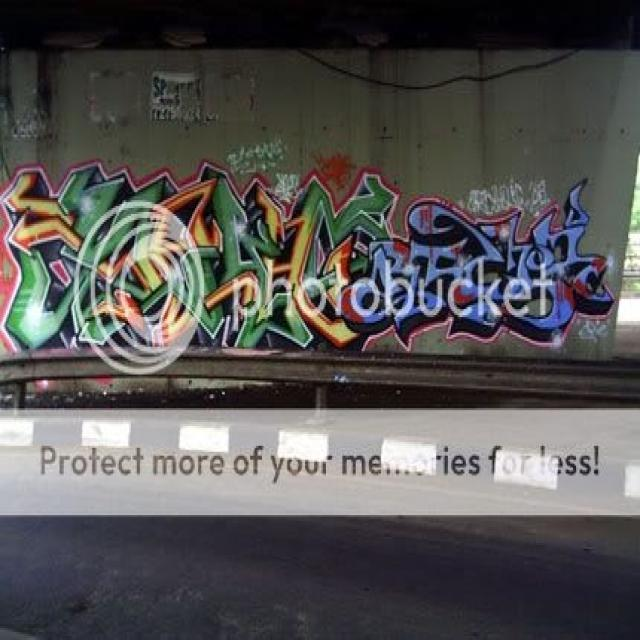-: (2, 152, 613, 378)
